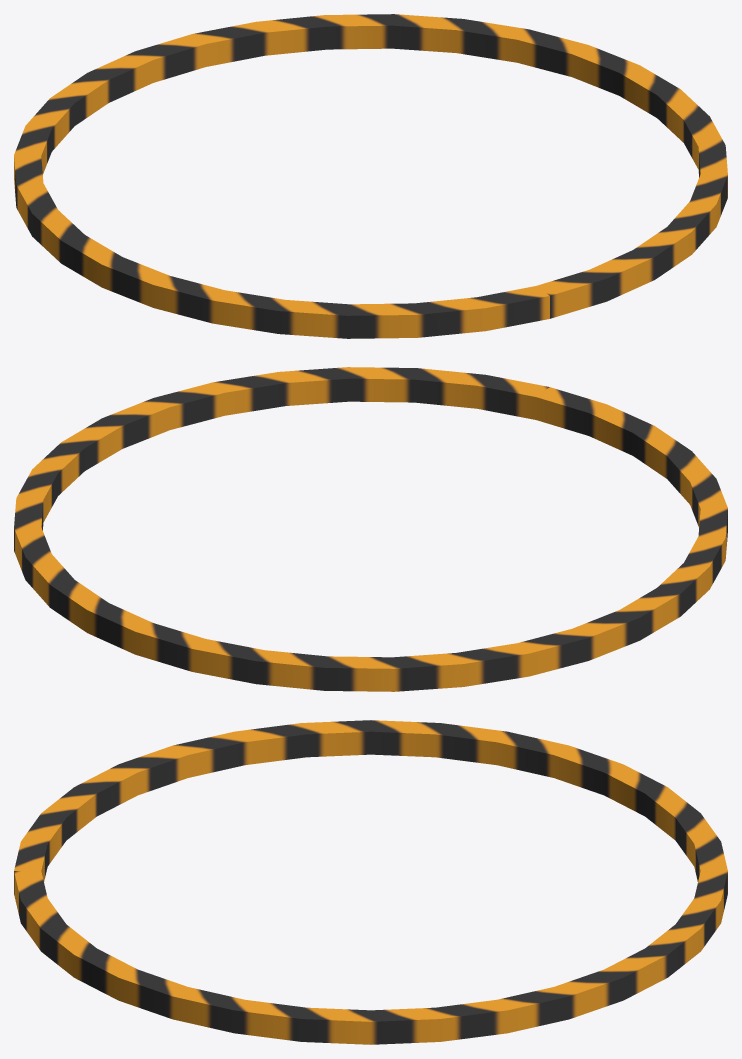
Rendered from tape_circle.fbx.
3 views of the same model, one above another, from view 1: azimuth 30°, elevation 25°; view 2: azimuth 150°, elevation 25°; view 3: azimuth 270°, elevation 25° (orthographic).
Visible parts, largest first — view 1: Cylinder.061; view 2: Cylinder.061; view 3: Cylinder.061.
Part boxes in pixels (box(x1,y1,x2,y2)): Cylinder.061: box(14, 14, 727, 338); Cylinder.061: box(14, 367, 727, 691); Cylinder.061: box(14, 720, 727, 1044).
Bounding box in the file's own units: 1844 × 65.41 × 1844.
